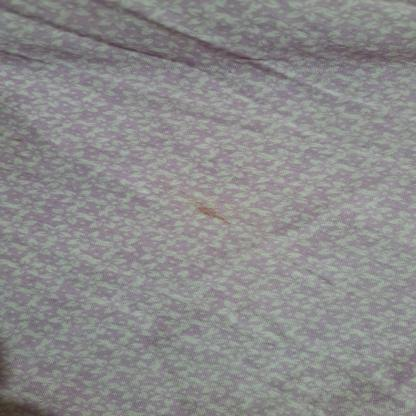spot: (189, 192, 236, 233)
